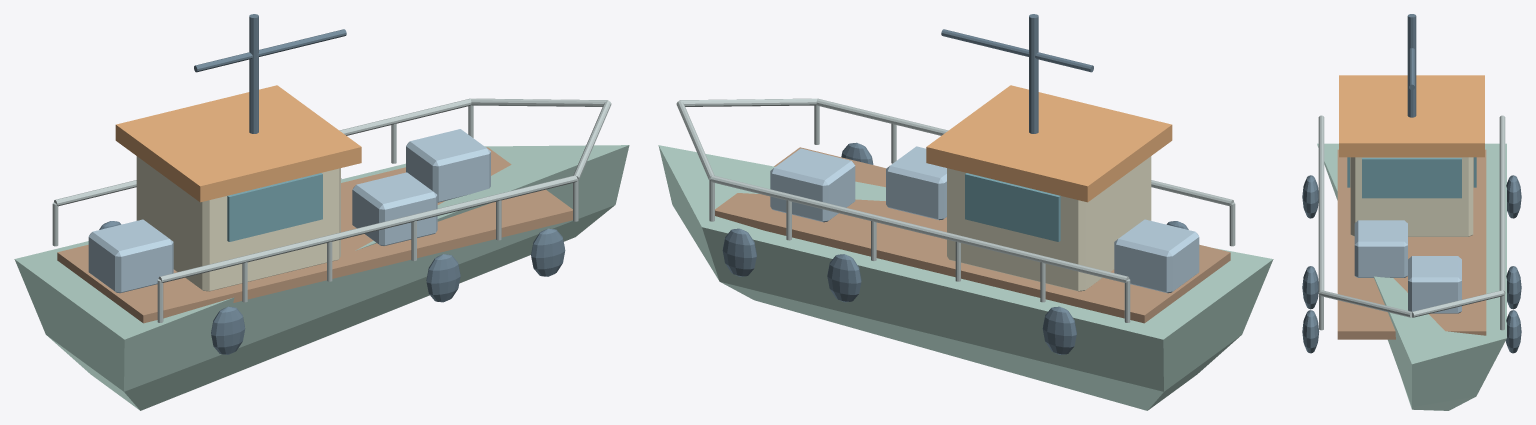
The model's file is boat-fishing.glb.
3 renders of one model, left to right at view 1: azimuth 30°, elevation 25°; view 2: azimuth 150°, elevation 25°; view 3: azimuth 270°, elevation 25°, orthographic. The views are drawn at different scales.
Parts seen in each view (by area): view 1: boat-fishing_wood, boat-fishing_mint; view 2: boat-fishing_wood, boat-fishing_mint; view 3: boat-fishing_wood, boat-fishing_mint.
Part boxes in pixels (left/top/right/bottom): boat-fishing_wood: left=52, top=14, right=611, bottom=354; boat-fishing_mint: left=14, top=145, right=629, bottom=410; boat-fishing_wood: left=676, top=14, right=1235, bottom=354; boat-fishing_mint: left=658, top=145, right=1273, bottom=410; boat-fishing_wood: left=1302, top=14, right=1521, bottom=353; boat-fishing_mint: left=1317, top=143, right=1506, bottom=410.
Bounding box in the file's own units: 3.64 × 2.13 × 1.43.
2 materials, 2 textured.
